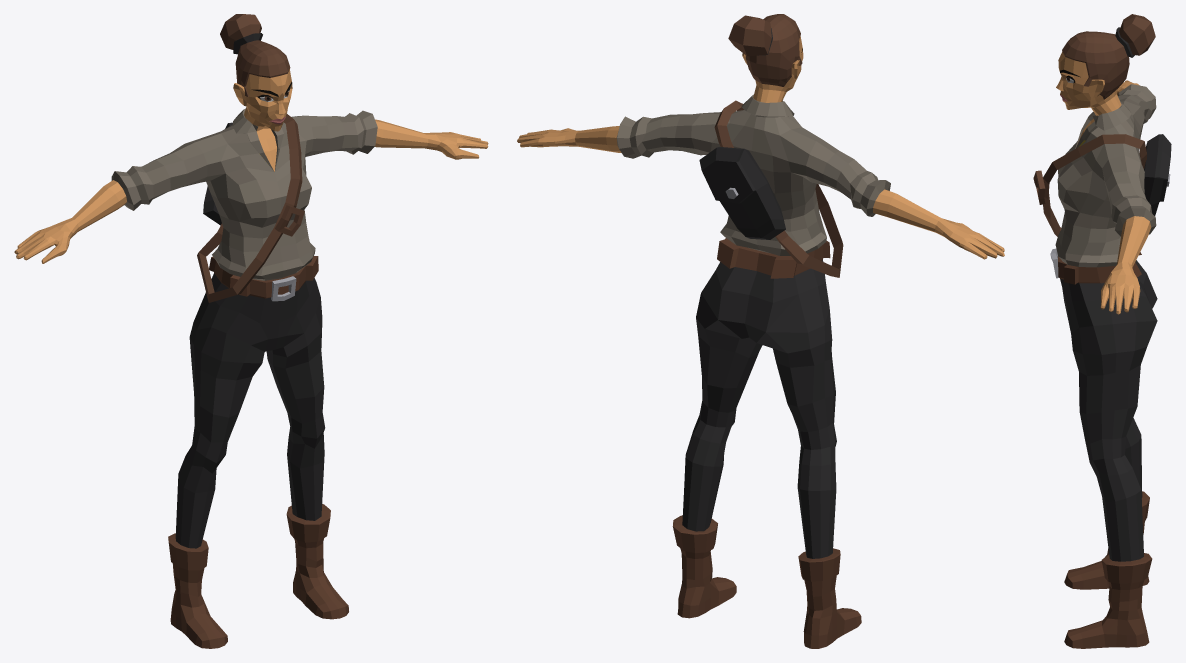
The model's file is Adventure_F_2.fbx.
The picture shows the model from 3 angles, left to right: view 1: azimuth 30°, elevation 25°; view 2: azimuth 150°, elevation 25°; view 3: azimuth 270°, elevation 25°; orthographic projection. The views are drawn at different scales.
Visible parts, largest first — view 1: Adventure_F_2, Adventure_F_2_Bag; view 2: Adventure_F_2, Adventure_F_2_Bag; view 3: Adventure_F_2, Adventure_F_2_Bag.
Part boxes in pixels (<box>): Adventure_F_2: <box>14,14,488,648</box>; Adventure_F_2_Bag: <box>197,114,304,302</box>; Adventure_F_2: <box>517,14,1004,648</box>; Adventure_F_2_Bag: <box>699,100,843,277</box>; Adventure_F_2: <box>1050,14,1157,648</box>; Adventure_F_2_Bag: <box>1033,134,1171,236</box>.
Size of the model in its own units: 153 by 184 by 38.68.
Materials: 1 (1 with a texture image).
